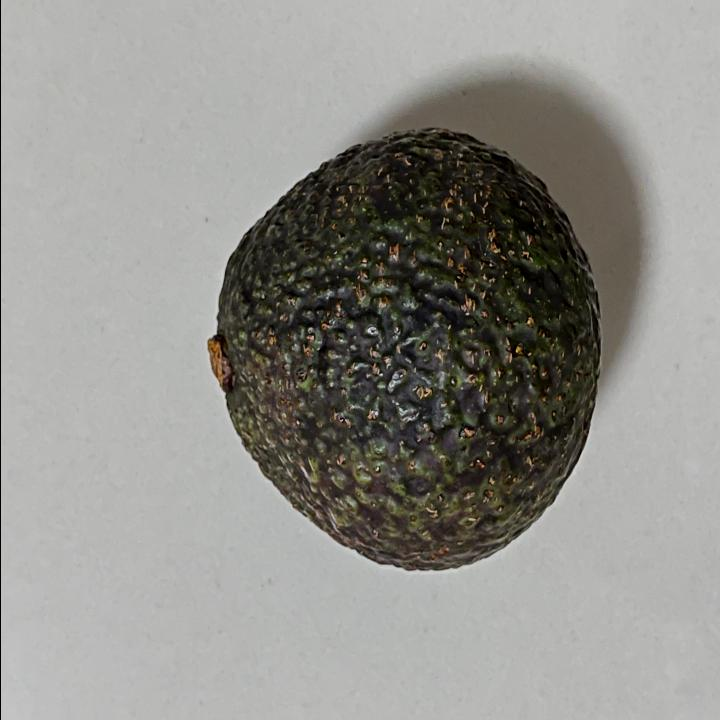Level1: (193, 112, 611, 593)
